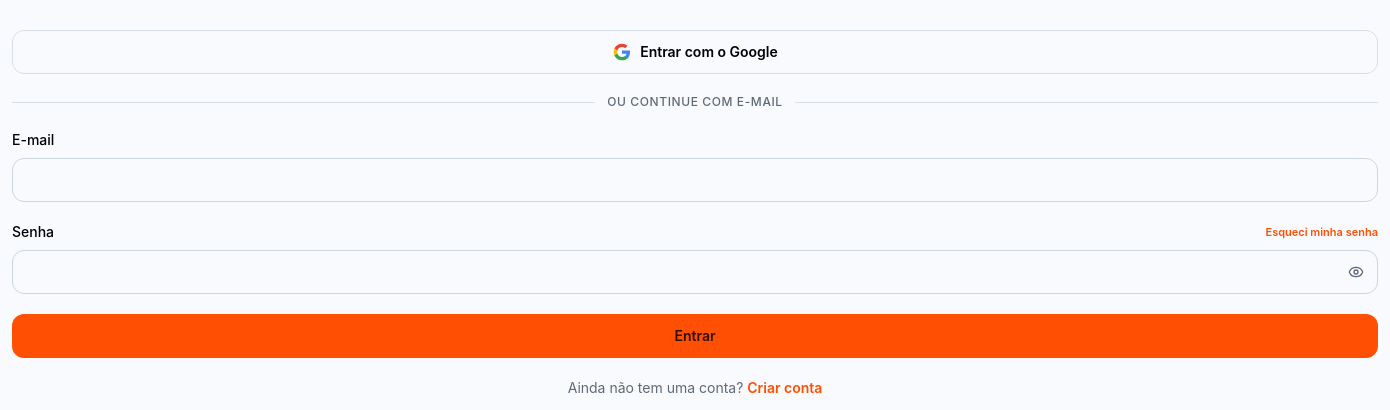
Test: AuthForm › shows the translated API error when the verification code is rejected
The image size is (1390, 410).
In the field labelled "E-mail": (695, 180) [12,158,1378,202], type "user@postmade.app"
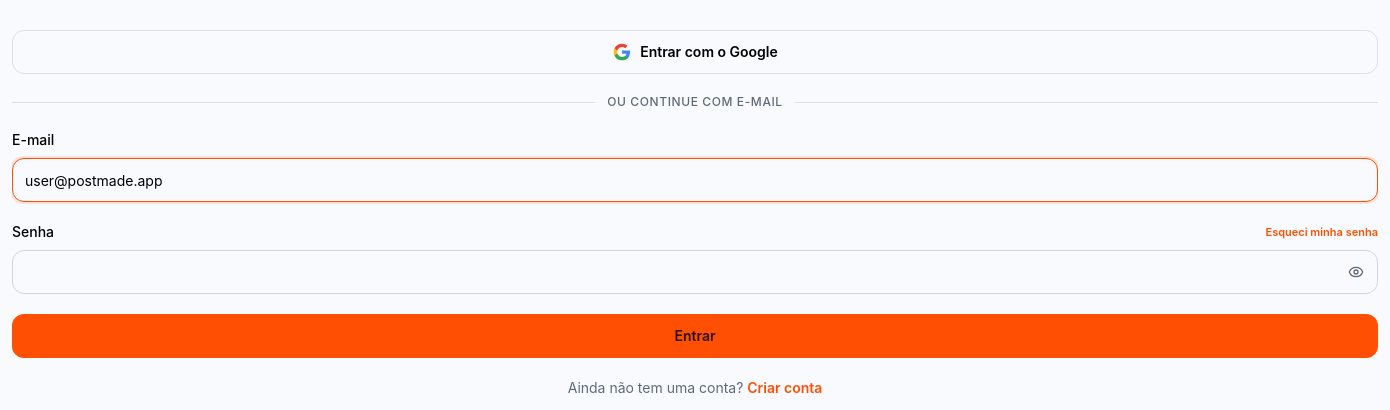
In the password field labelled "Senha": (695, 272) [12,250,1378,294], type "minha-senha"
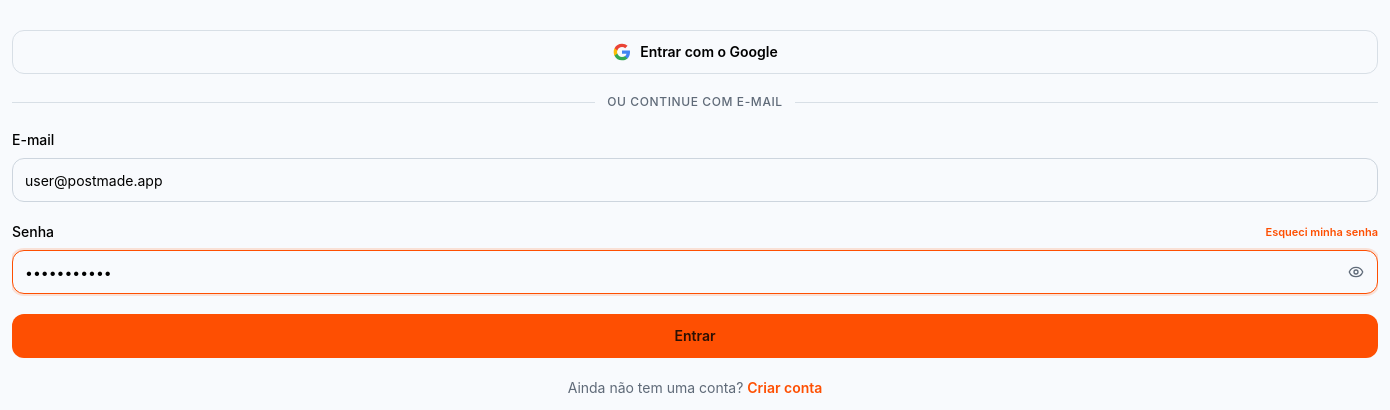
Click the button "Entrar": (695, 336) [12,314,1378,358]
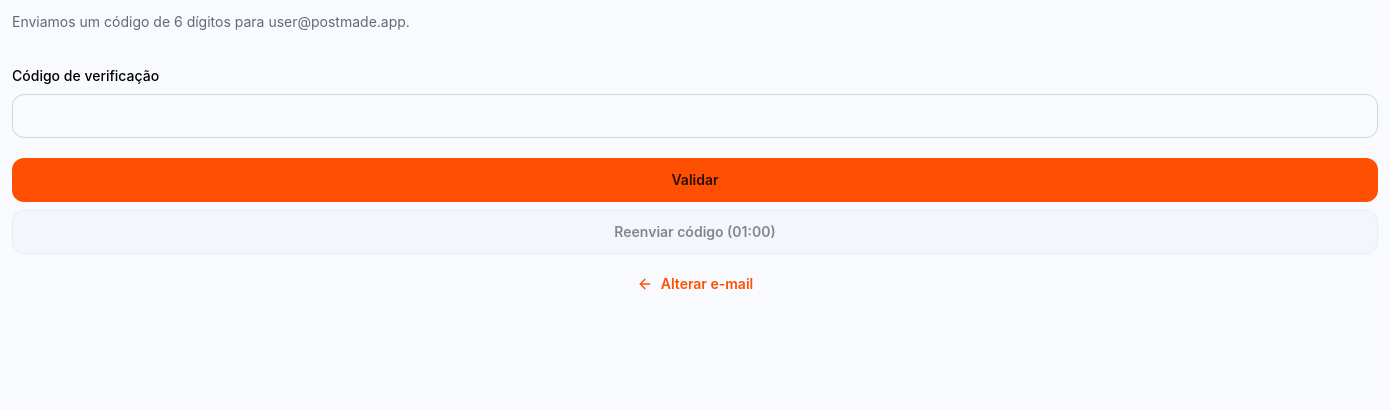
In the field labelled "Código de verificação": (695, 116) [12,94,1378,138], type "000000"
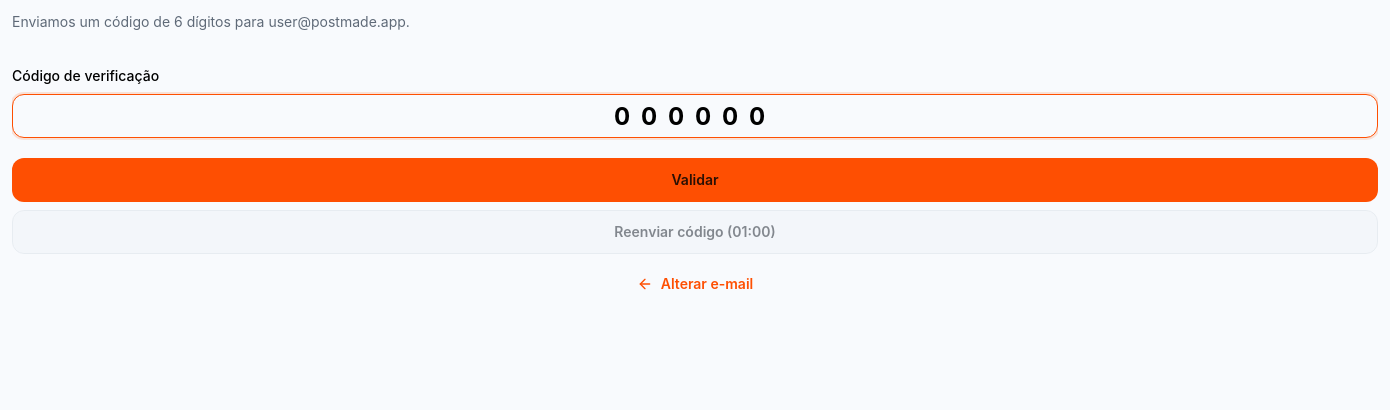
Click the button "Validar": (695, 180) [12,158,1378,202]
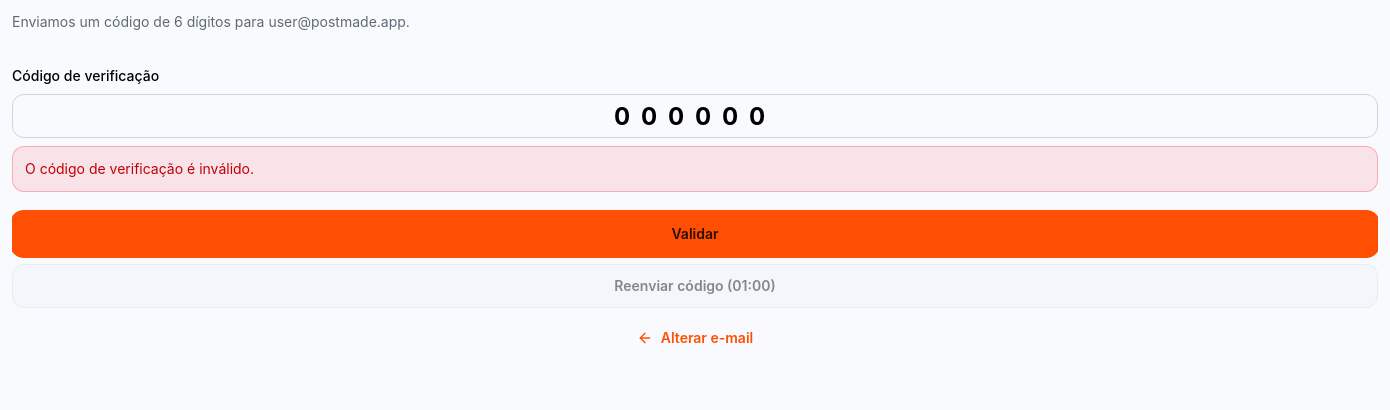
Expected: the message reads "O código de verificação é inválido.", [25,160,254,177]
